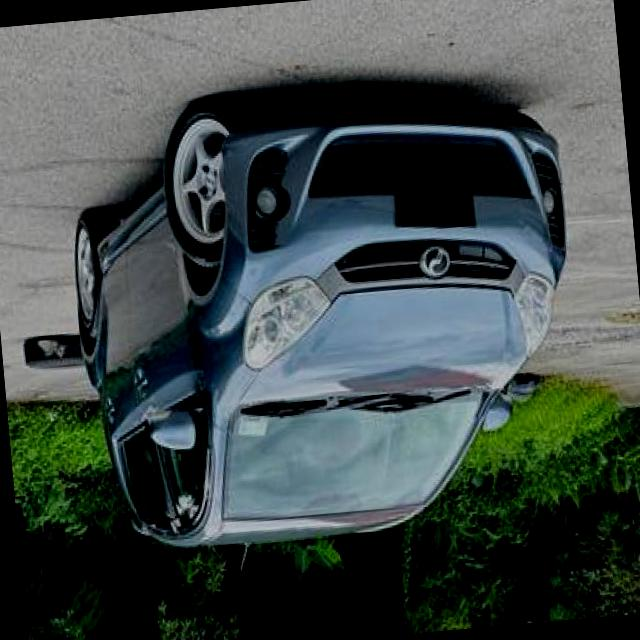PeroduaMyvi: (56, 66, 594, 562)
